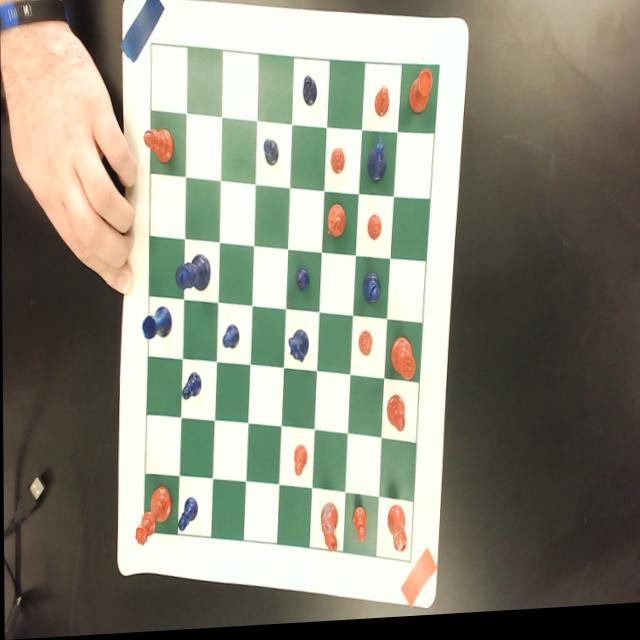B: (362, 275, 381, 310)
K: (175, 255, 210, 295)
N: (367, 137, 387, 188), (288, 333, 308, 366)
P: (177, 496, 198, 534), (181, 373, 202, 404), (221, 326, 240, 353), (263, 141, 279, 171), (303, 78, 317, 112), (296, 269, 310, 296)
R: (140, 308, 173, 343)
b: (143, 127, 175, 168), (386, 399, 405, 438)
cb: (143, 46, 439, 567)
k: (389, 340, 415, 386)
n: (320, 504, 339, 559), (325, 207, 346, 243)
p: (351, 508, 366, 549), (374, 89, 389, 122), (329, 150, 346, 179), (293, 446, 307, 480), (366, 217, 382, 246), (358, 335, 372, 361)
q: (134, 487, 172, 548)
r: (408, 73, 432, 121), (386, 509, 406, 560)
